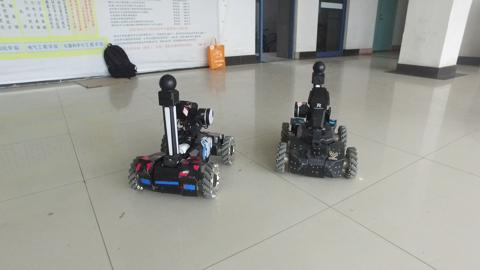chariot: (124, 71, 240, 207), (269, 59, 361, 184)
